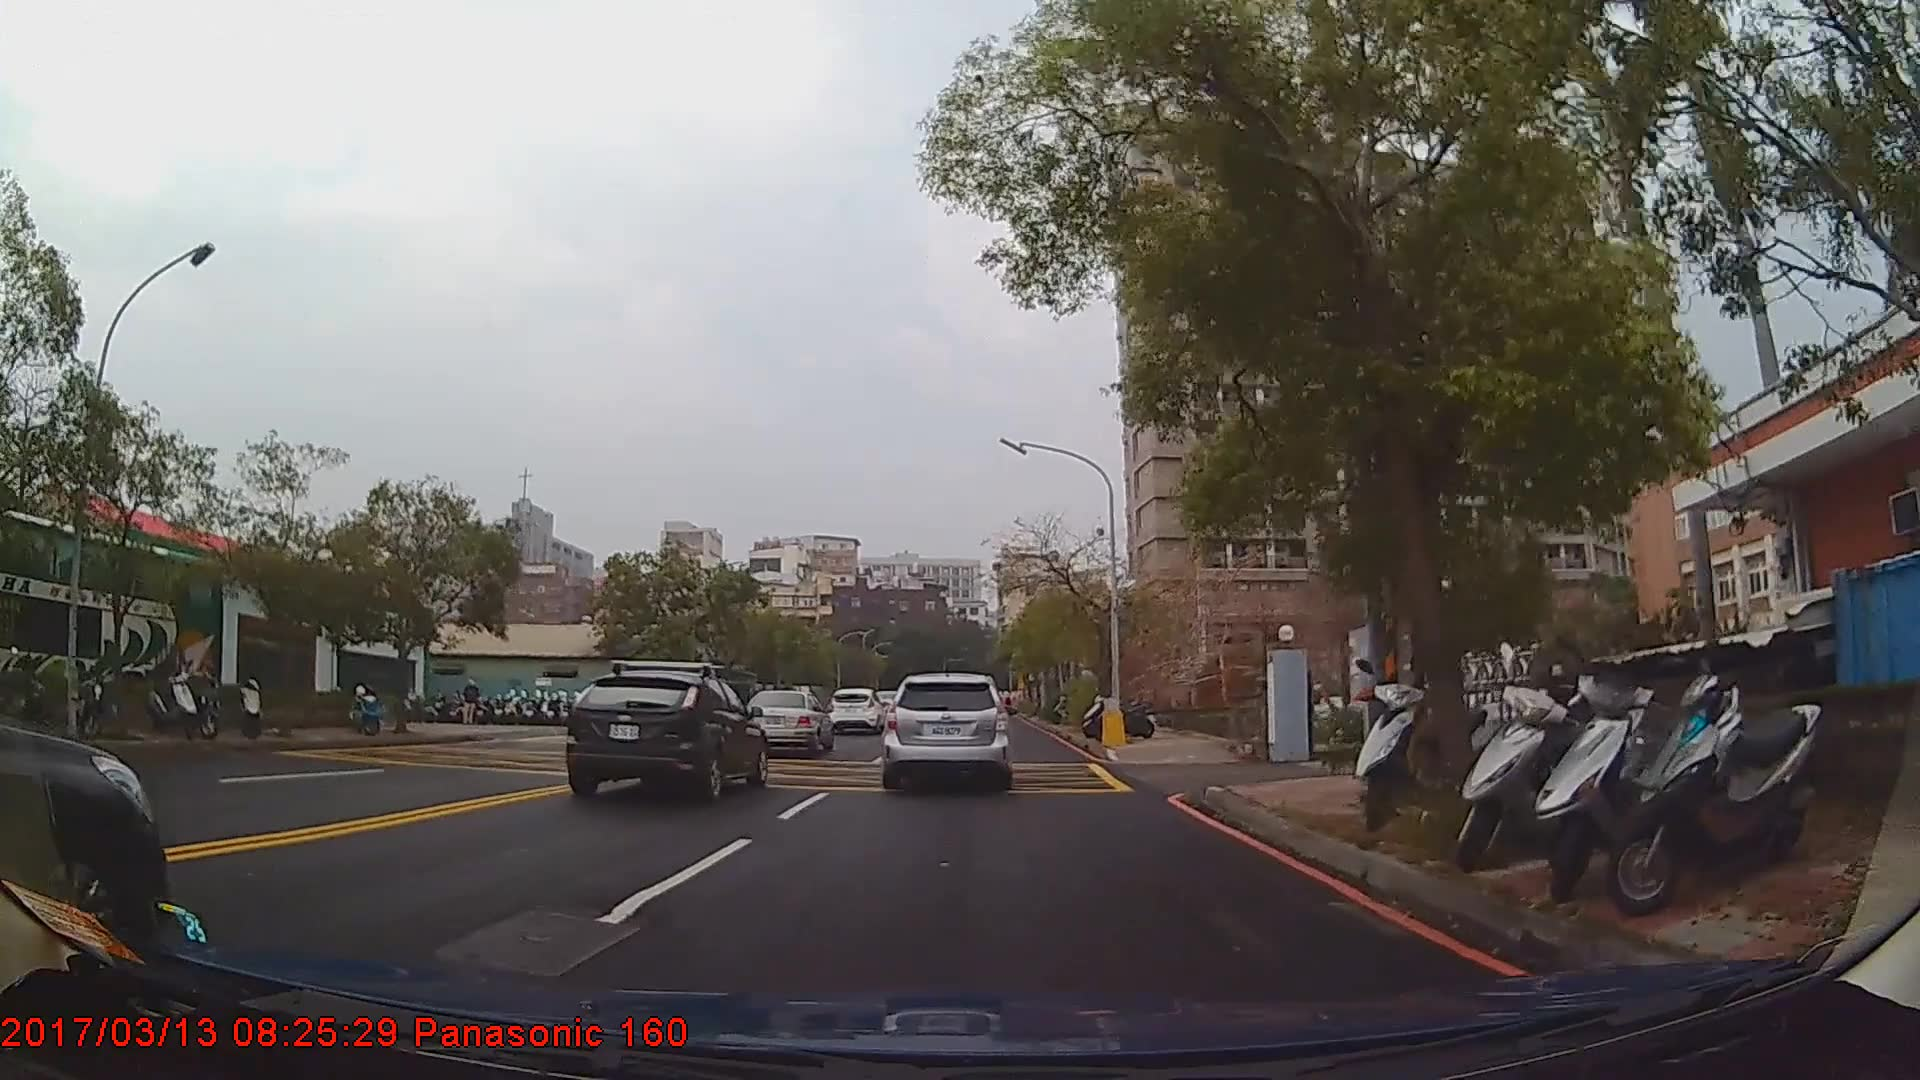pedestrian: (462, 680, 482, 726)
vehicle: (0, 502, 223, 732), (563, 668, 766, 804), (884, 671, 1009, 786), (742, 689, 832, 756), (827, 687, 886, 735)
